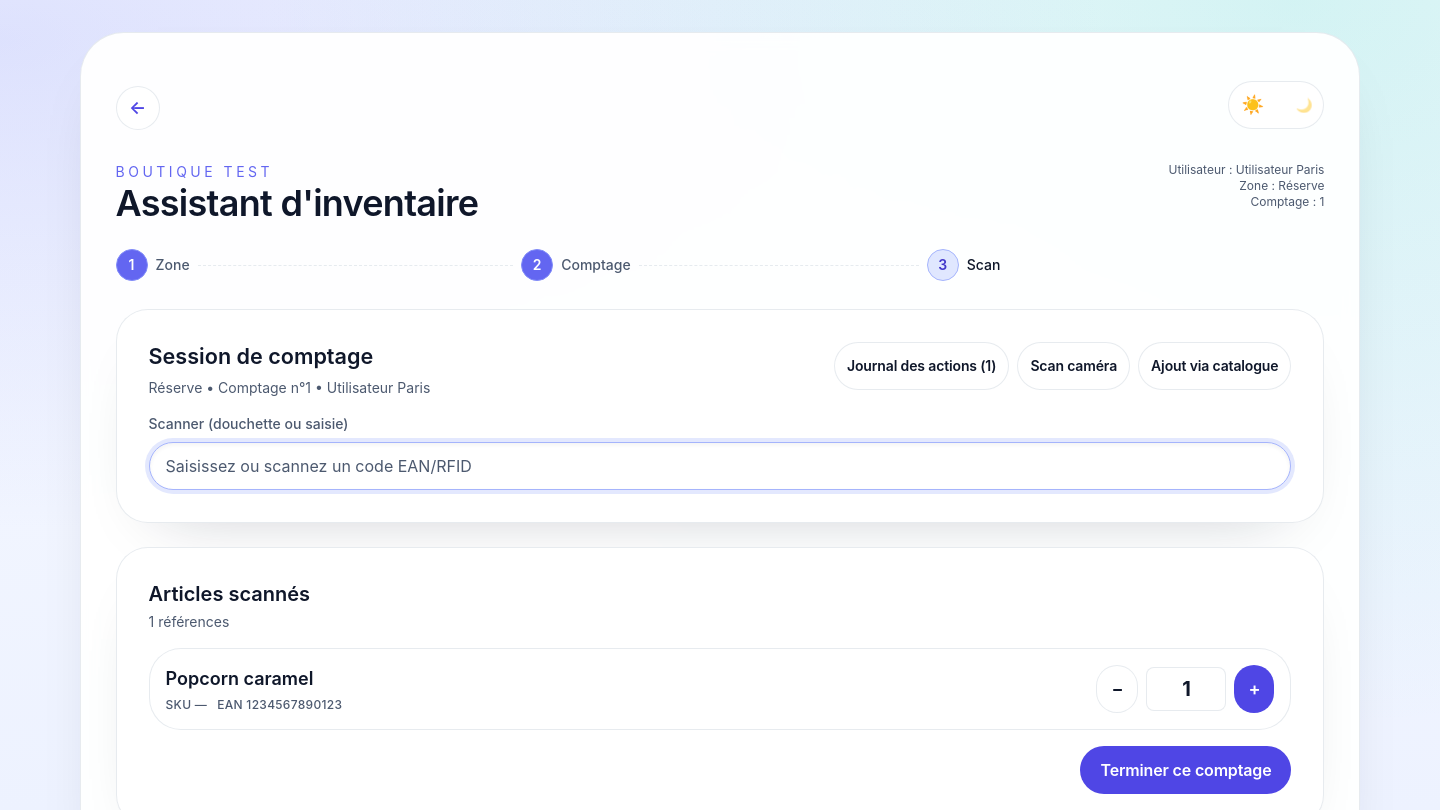
Test: Workflow d'inventaire › libère automatiquement la zone lorsque tous les articles sont supprimés
Expected: the list item with test id "scanned-item" is shown, [148,648,1291,730]
Click the button named "Retirer": (1118, 689) [1096,665,1138,713]
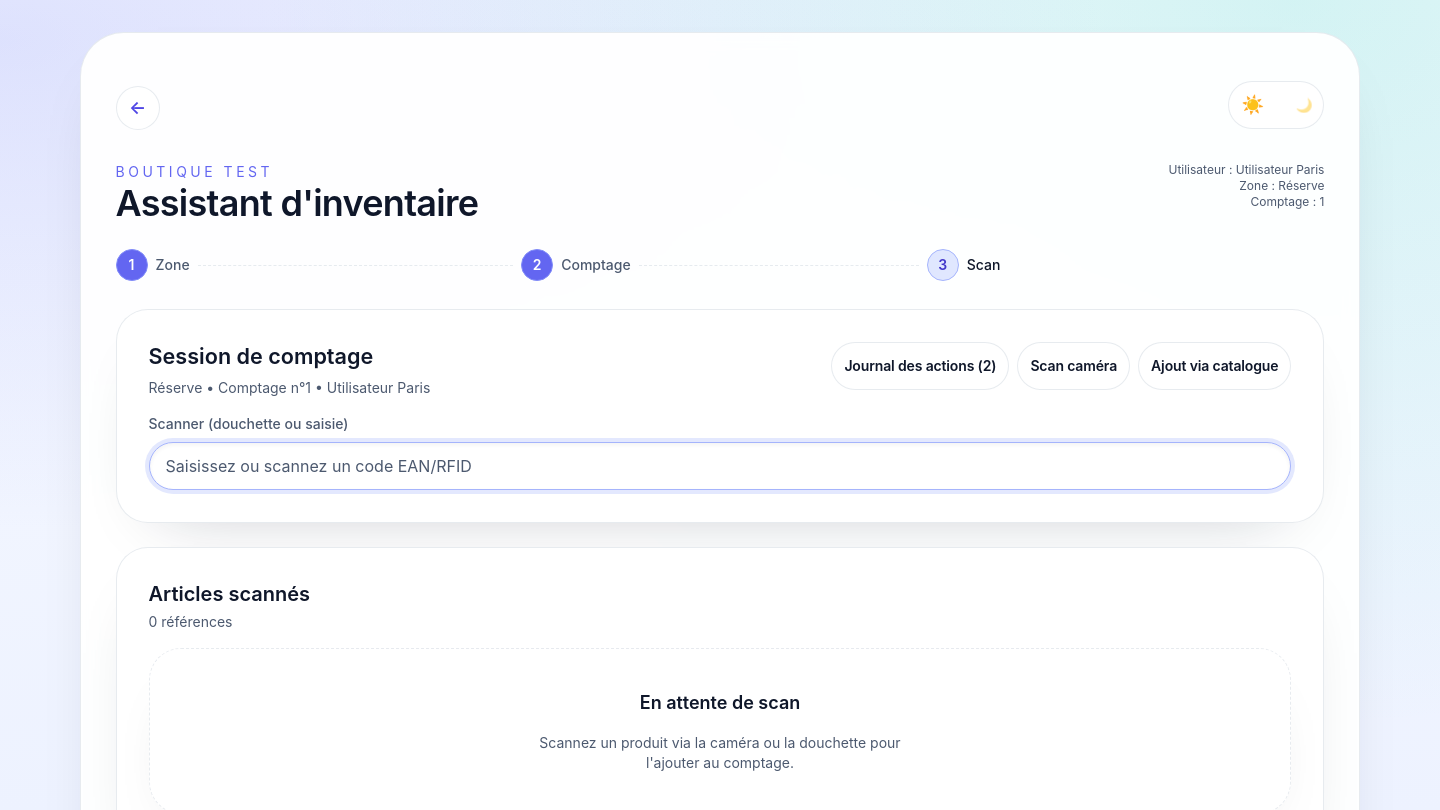
Result: the list item with test id "scanned-item" is gone
